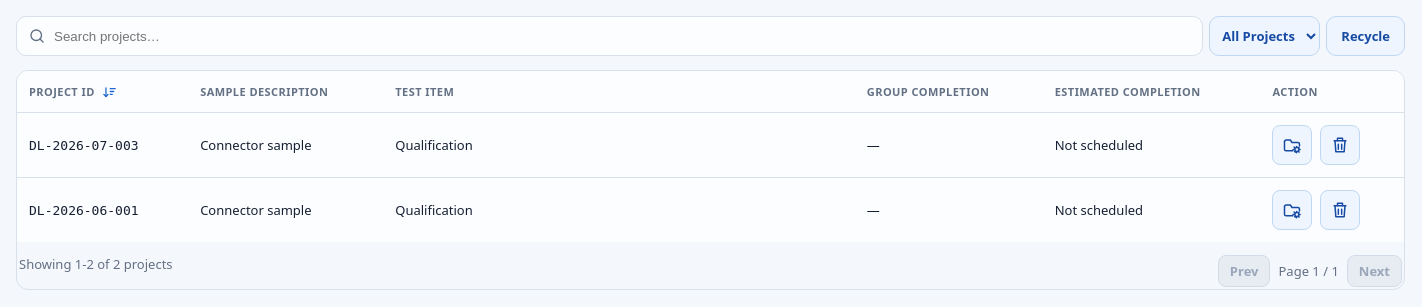
Test case: ProjectListPage lifecycle registry views › defaults Project IDs to newest first and lets the operator switch to oldest first
The width and height of the screenshot is (1422, 307).
Click the button with aria-label "Sort Project ID ascending".
click(73, 92)  # box [29, 83, 118, 100]
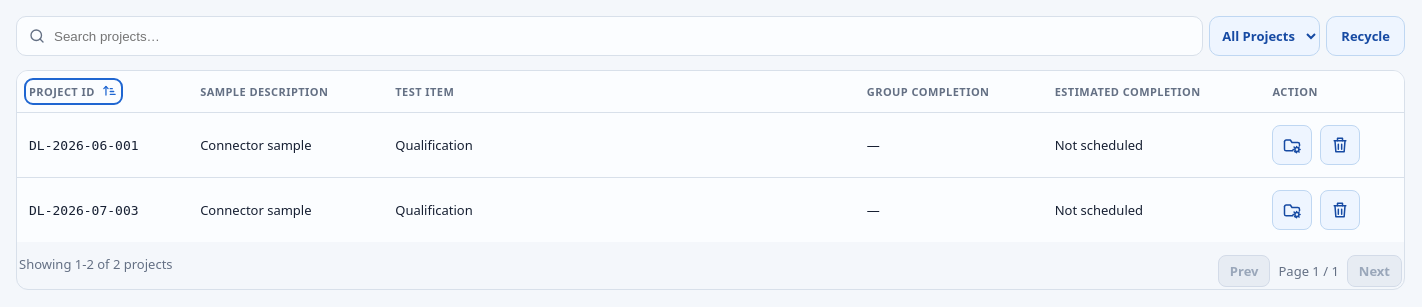
Expected: the button with aria-label "Sort Project ID descending" is shown, [29, 83, 118, 100]
